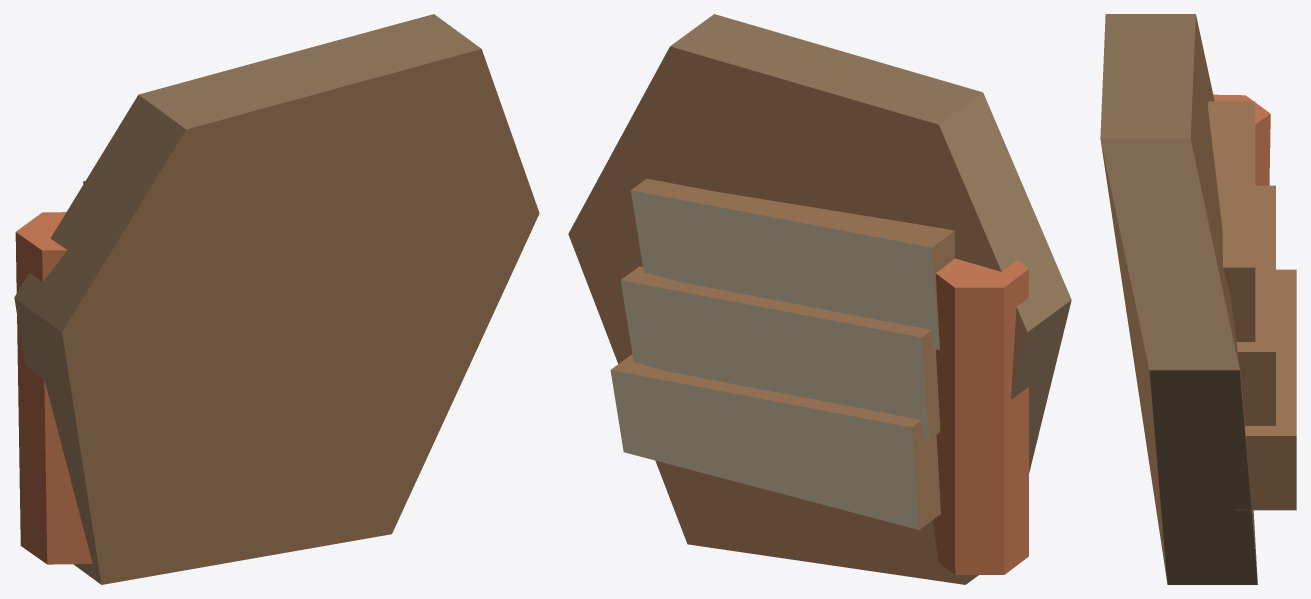
The model's file is bone_guard.glb.
The picture shows the model from 3 angles, left to right: view 1: azimuth 30°, elevation 25°; view 2: azimuth 150°, elevation 25°; view 3: azimuth 270°, elevation 25°; orthographic projection. The views are drawn at different scales.
Visible parts, largest first — view 1: bone_guard; view 2: bone_guard; view 3: bone_guard.
Part boxes in pixels (<box>): bone_guard: <box>14,14,539,584</box>; bone_guard: <box>568,14,1071,584</box>; bone_guard: <box>1100,14,1296,584</box>.
Size of the model in its own units: 0.412 by 0.403 by 0.152.
